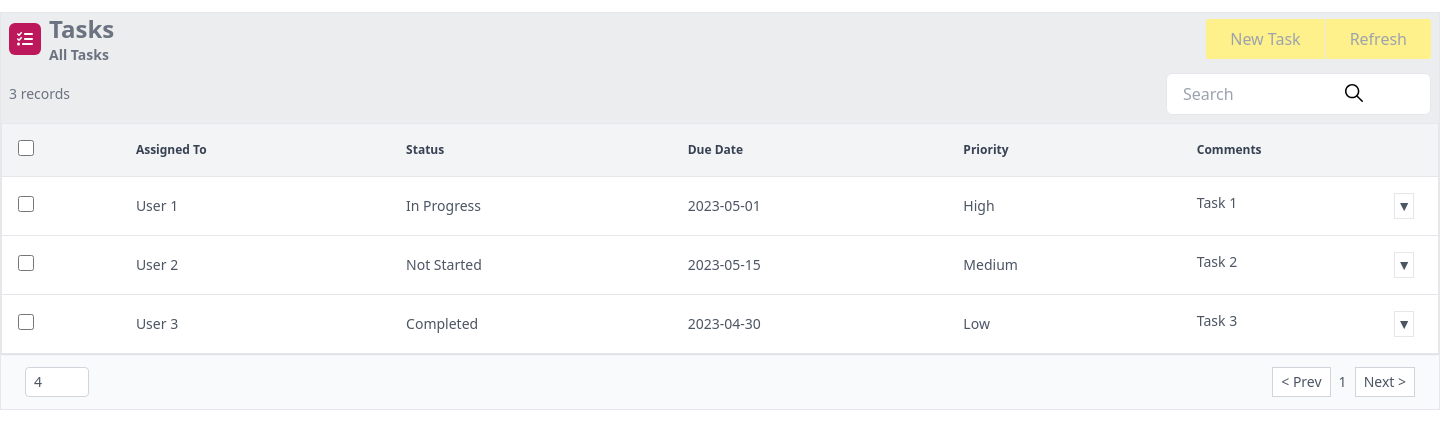
Test: TaskList › filters tasks based on search input
This screenshot has width=1440, height=427.
Type "User 1" into the field with placeholder "Search".
click(1298, 94); type("User 1")  # box x1=1166 y1=73 x2=1431 y2=115
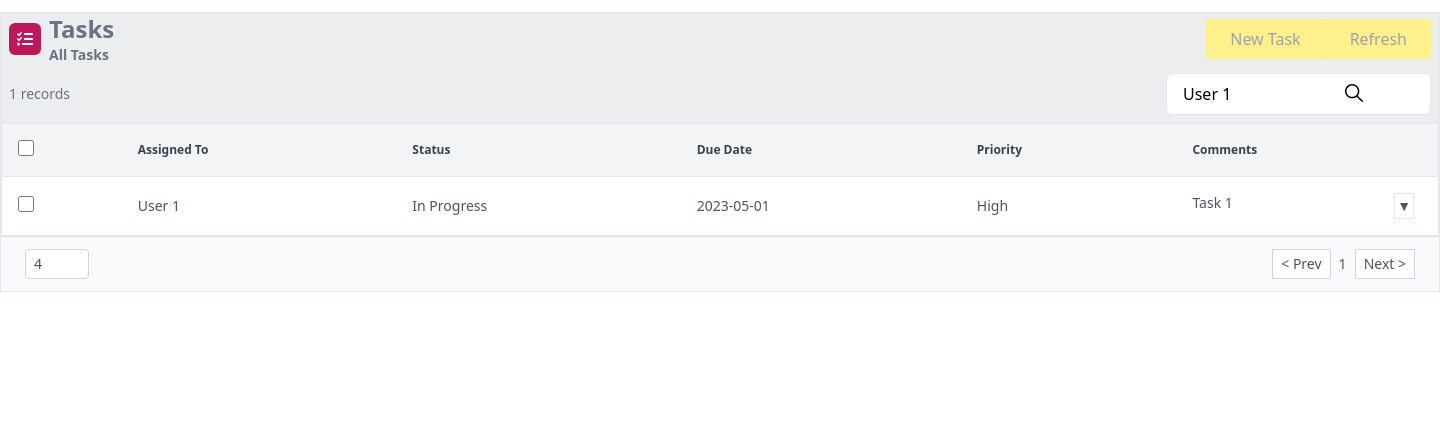
Expected: the text "User 1" is shown, x1=114 y1=176 x2=388 y2=236
Expected: the text "User 2" is gone
Expected: the text "User 3" is gone
